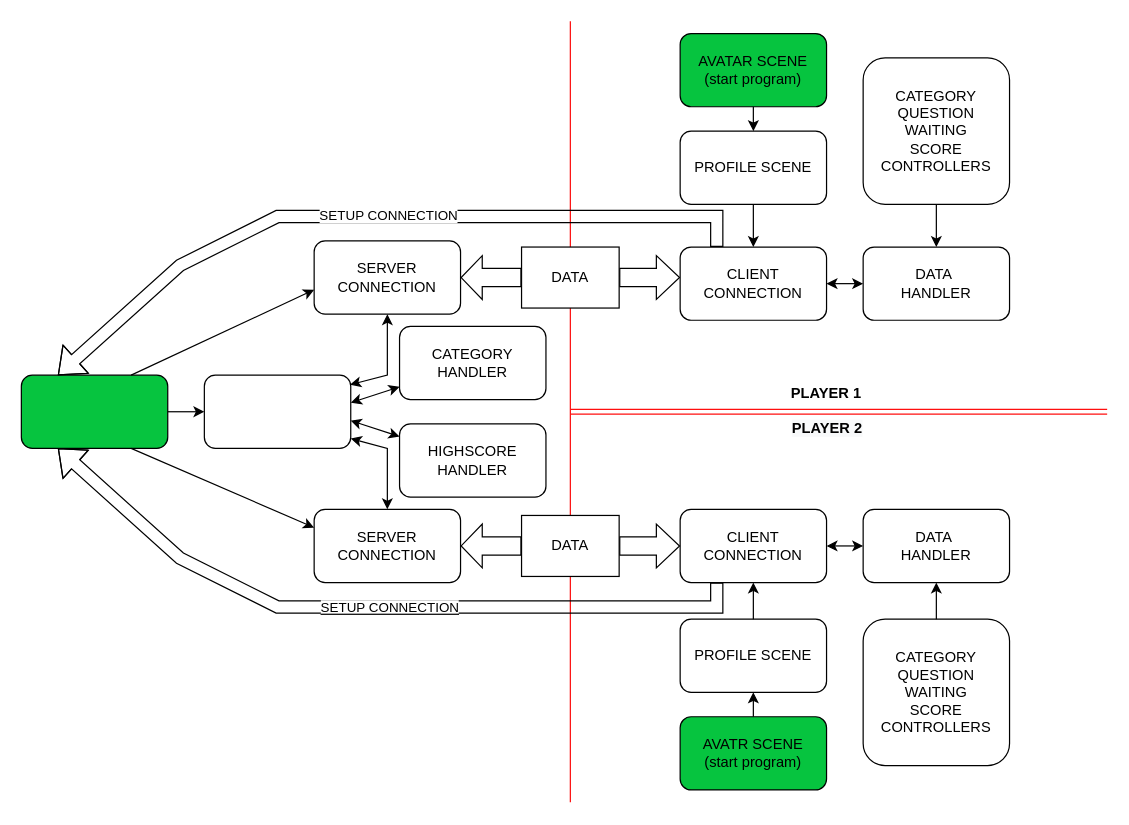
This 1129x825 diagram has some shape labels left out. Each missing label, with the centre of its shape:
GAME: point 277,411
SERVER: point 94,411
